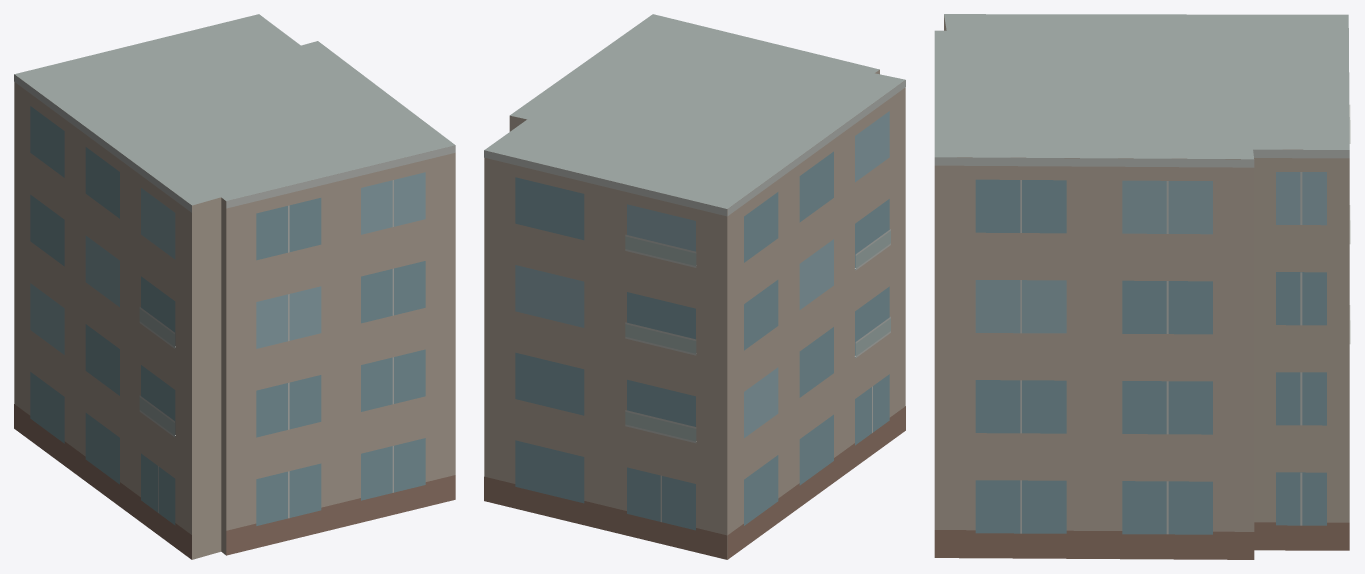
File: survey-upis-32661802.glb
3 renders of one model, left to right at view 1: azimuth 30°, elevation 25°; view 2: azimuth 150°, elevation 25°; view 3: azimuth 270°, elevation 25°, orthographic. The views are drawn at different scales.
Visible parts, largest first — view 1: survey-upis-32661802.tmp; view 2: survey-upis-32661802.tmp; view 3: survey-upis-32661802.tmp.
Part boxes in pixels (x1,y1,x2,y2): survey-upis-32661802.tmp: (14, 14, 455, 559); survey-upis-32661802.tmp: (484, 14, 905, 559); survey-upis-32661802.tmp: (934, 14, 1350, 559).
Size of the model in its own units: 9.05 by 11.6 by 10.93.
